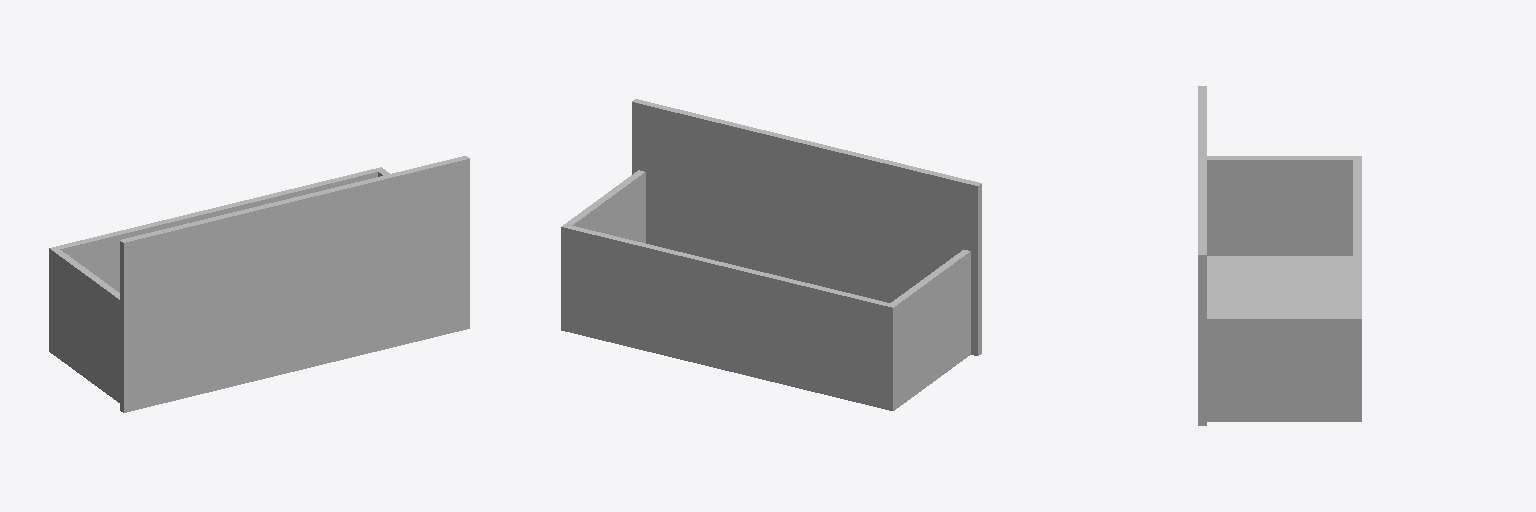
Rendered from KitchenOPEN_Export-25.obj.
The picture shows the model from 3 angles: view 1: azimuth 30°, elevation 25°; view 2: azimuth 150°, elevation 25°; view 3: azimuth 270°, elevation 25°; orthographic projection.
Visible parts, largest first — view 1: KitchenOPEN_Export-25; view 2: KitchenOPEN_Export-25; view 3: KitchenOPEN_Export-25.
Part boxes in pixels (x1,y1,x2,y2): KitchenOPEN_Export-25: (49, 156, 469, 412); KitchenOPEN_Export-25: (561, 99, 981, 410); KitchenOPEN_Export-25: (1198, 86, 1361, 425).
Size of the model in its own units: 49 by 23 by 20.